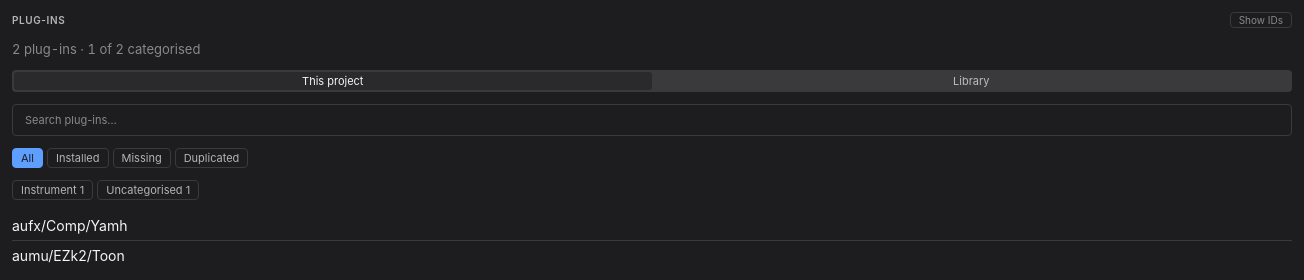
Test: <PluginRail /> › filter input narrows the visible list
The image size is (1304, 280).
Type "Comp" into the search field.
click(652, 120); type("Comp")  # box [12,104,1292,136]
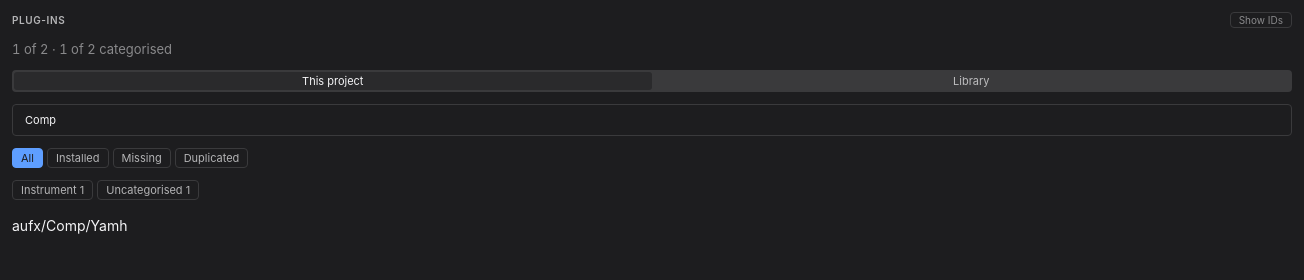
expect the button "aufx/Comp/Yamh" is shown: met, box [12,216,1292,236]
expect the button "aumu/EZk2/Toon" is gone: met
